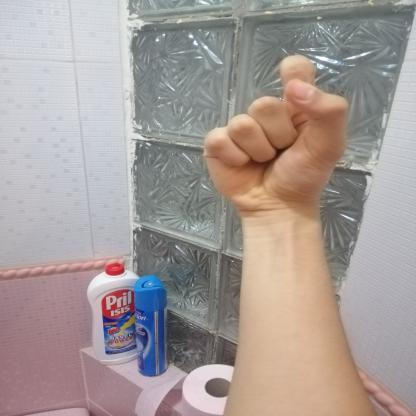FAA: (188, 42, 369, 233)
